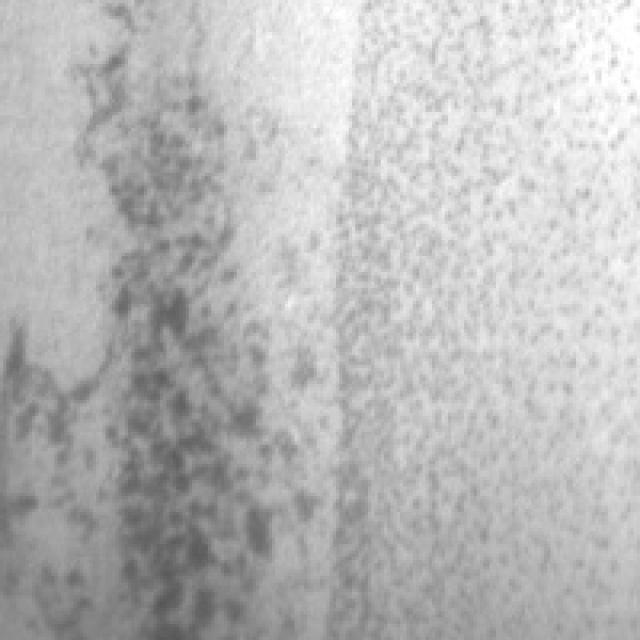pitted_surface: (323, 0, 634, 637), (3, 0, 301, 634)
